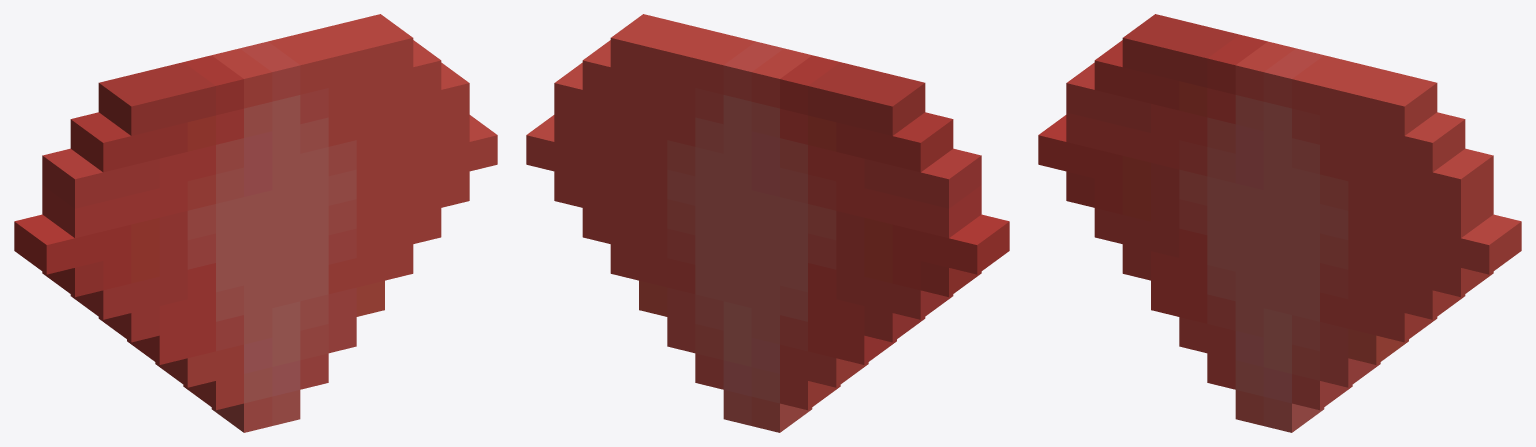
File: gem-red.glb
3 views of the same model, side by side, from view 1: azimuth 30°, elevation 25°; view 2: azimuth 150°, elevation 25°; view 3: azimuth 330°, elevation 25° (orthographic).
Parts seen in each view (by area): view 1: prop; view 2: prop; view 3: prop.
Part boxes in pixels (x1,y1,x2,y2): prop: [14, 14, 497, 432]; prop: [526, 14, 1009, 432]; prop: [1038, 14, 1521, 432].
Size of the model in its own units: 16 by 12 by 2.
